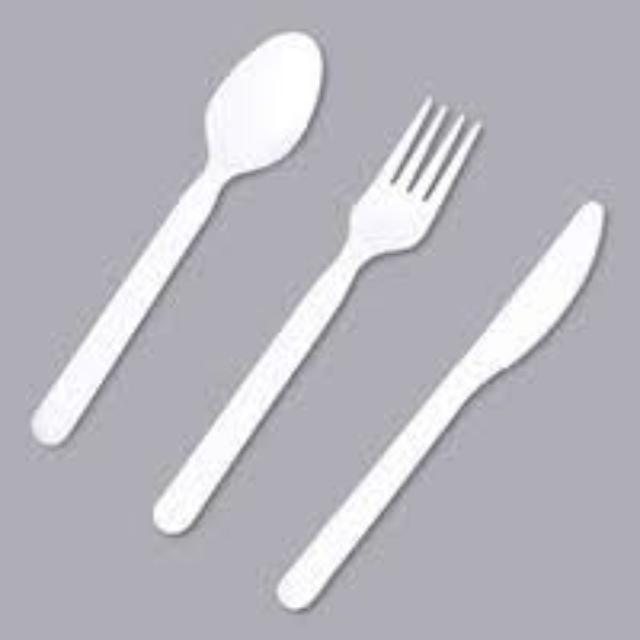Plastico descartable: (156, 96, 482, 534), (276, 201, 605, 611), (31, 31, 324, 446)
